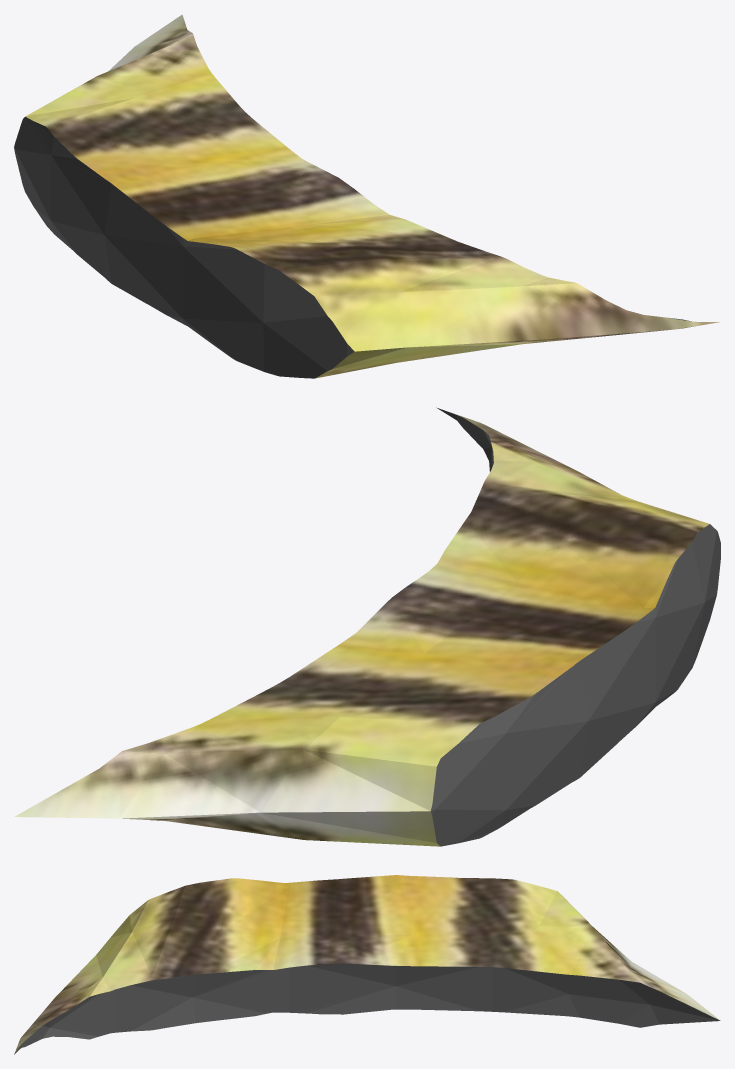
The picture shows the model from 3 angles, top to bottom: view 1: azimuth 30°, elevation 25°; view 2: azimuth 150°, elevation 25°; view 3: azimuth 270°, elevation 25°; orthographic projection. The views are drawn at different scales.
Parts seen in each view (by area): view 1: link_14_visual; view 2: link_14_visual; view 3: link_14_visual.
Boxes of the visible parts, x1=… form: link_14_visual: x1=14, y1=14, x2=719, y2=378; link_14_visual: x1=14, y1=407, x2=720, y2=846; link_14_visual: x1=14, y1=875, x2=720, y2=1054.
Size of the model in its own units: 0.00177 by 0.000506 by 0.00369.
Materials: 1 (1 with a texture image).
